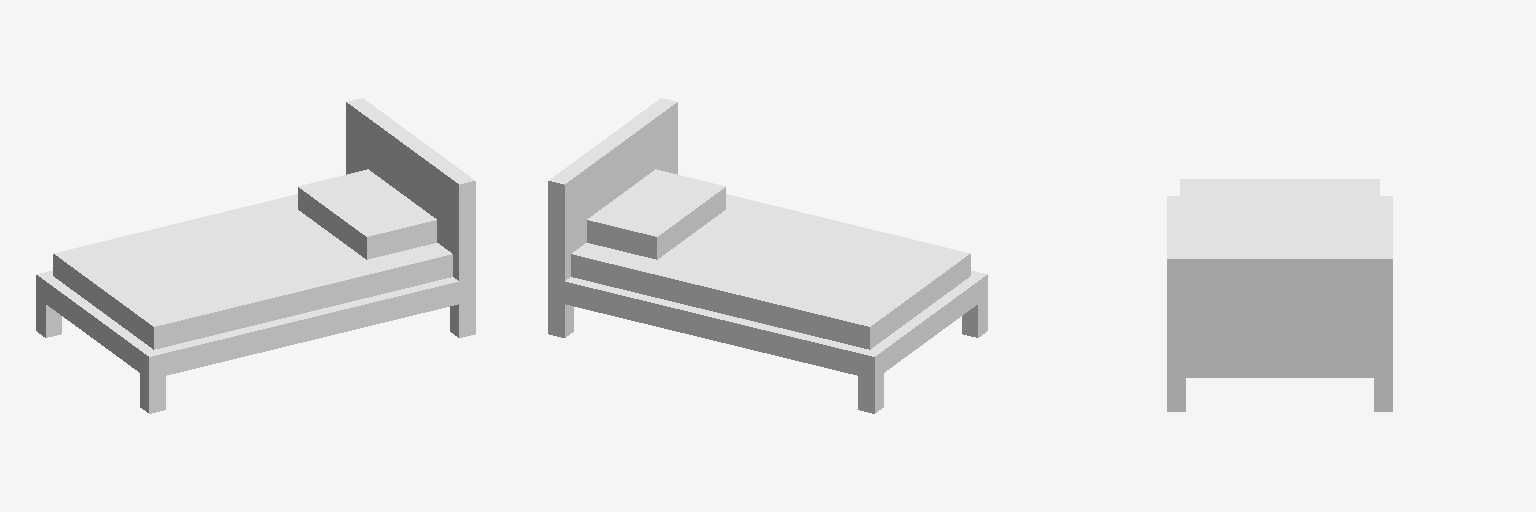
The model's file is test_bed.obj.
3 views of the same model, side by side, from view 1: azimuth 30°, elevation 25°; view 2: azimuth 150°, elevation 25°; view 3: azimuth 270°, elevation 25° (orthographic).
Parts seen in each view (by area): view 1: object 1; view 2: object 1; view 3: object 1.
Part boxes in pixels (left/top/right/bottom): object 1: left=36, top=98, right=475, bottom=413; object 1: left=548, top=98, right=987, bottom=413; object 1: left=1167, top=179, right=1392, bottom=411.
Size of the model in its own units: 6 by 2.7 by 3.6.